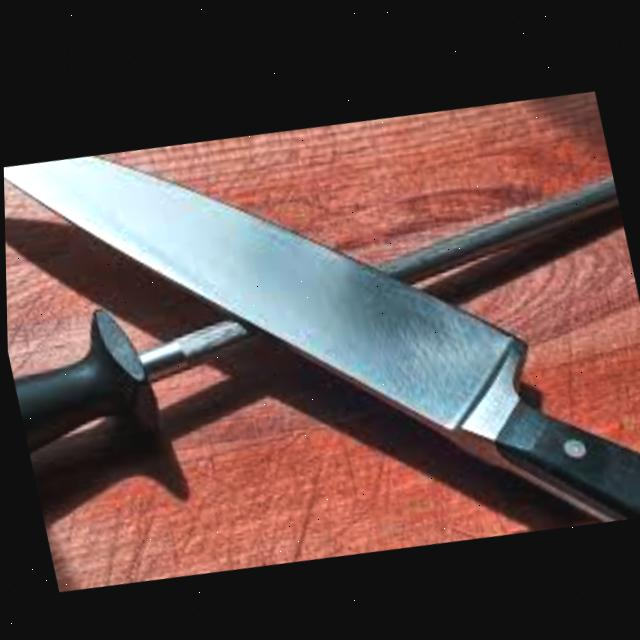Knife: (1, 51, 640, 619)
